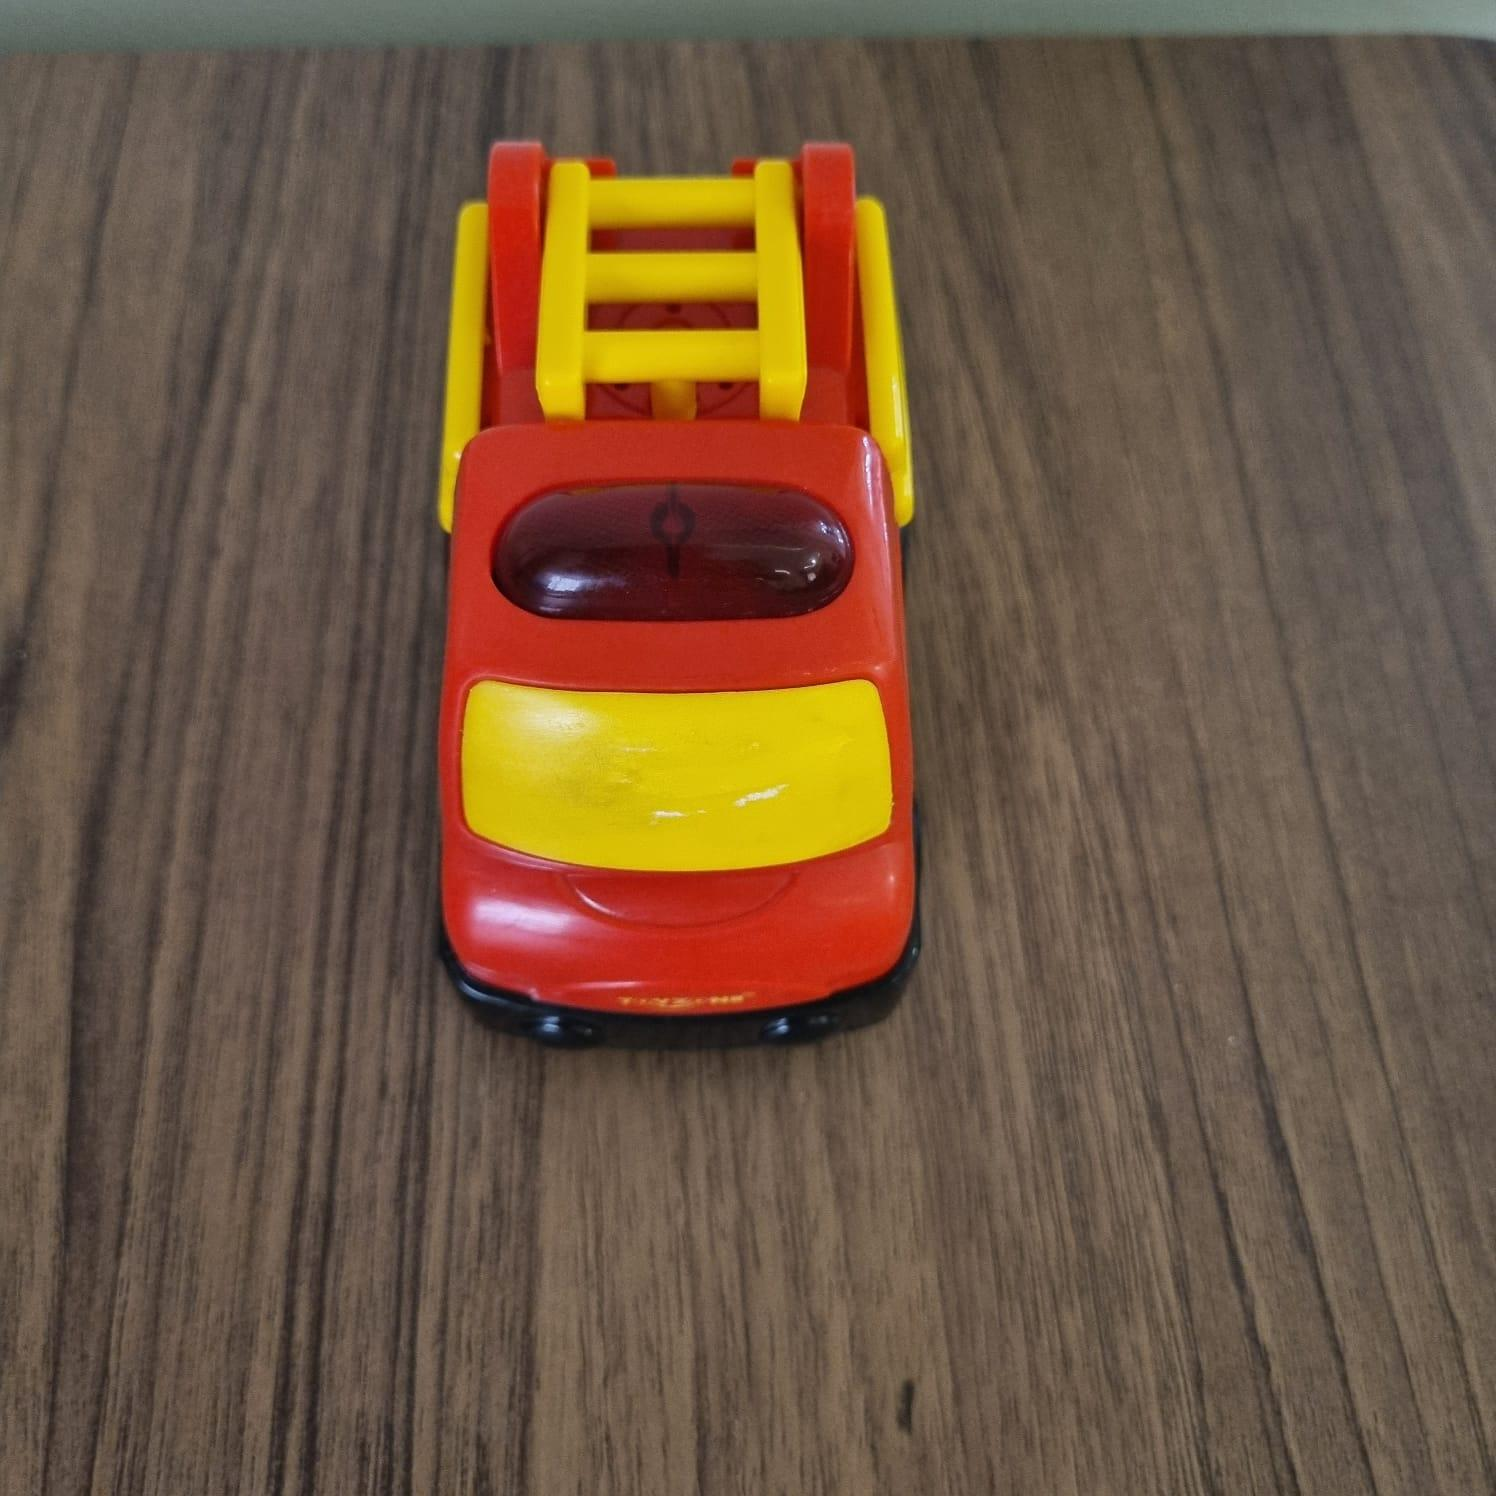firetruck_off: (423, 141, 936, 1056)
